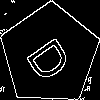D: (24, 30, 80, 86)
